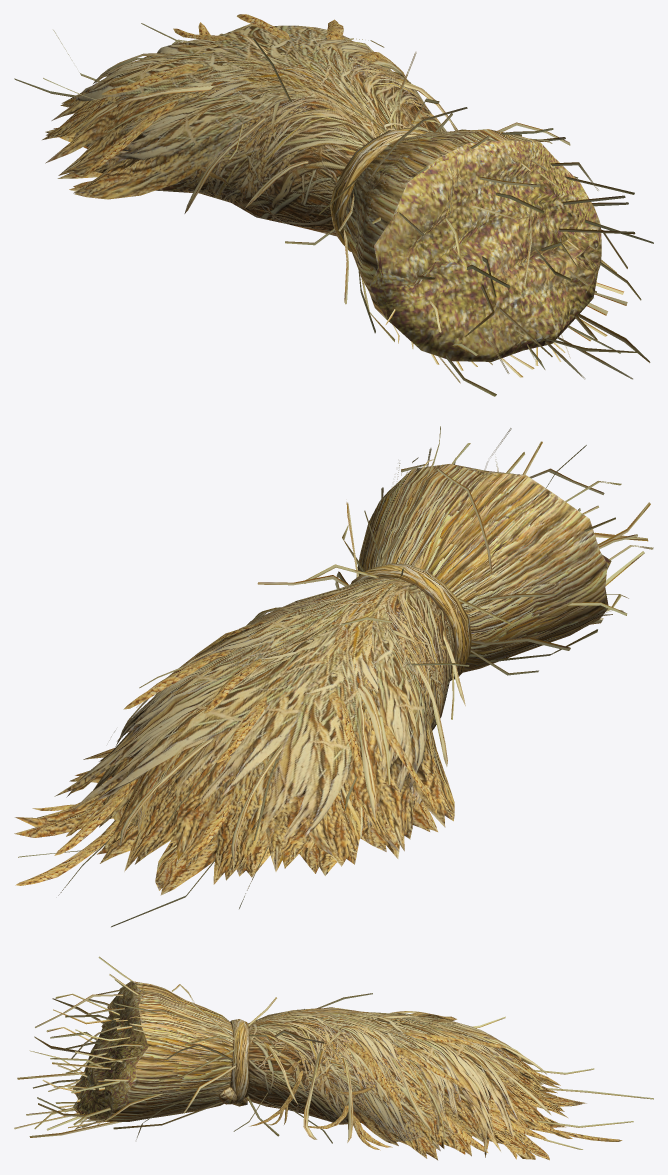
File: SM_SheafOfRice.fbx
The picture shows the model from 3 angles, top to bottom: view 1: azimuth 30°, elevation 25°; view 2: azimuth 150°, elevation 25°; view 3: azimuth 270°, elevation 25°; orthographic projection. The views are drawn at different scales.
Visible parts, largest first — view 1: SM_SheafOfRice_LOD0; view 2: SM_SheafOfRice_LOD0; view 3: SM_SheafOfRice_LOD0.
Part boxes in pixels (left/top/right/bottom): SM_SheafOfRice_LOD0: left=14, top=14, right=653, bottom=396; SM_SheafOfRice_LOD0: left=14, top=426, right=653, bottom=927; SM_SheafOfRice_LOD0: left=14, top=956, right=653, bottom=1160.
Size of the model in its own units: 79.55 by 45.47 by 189.
